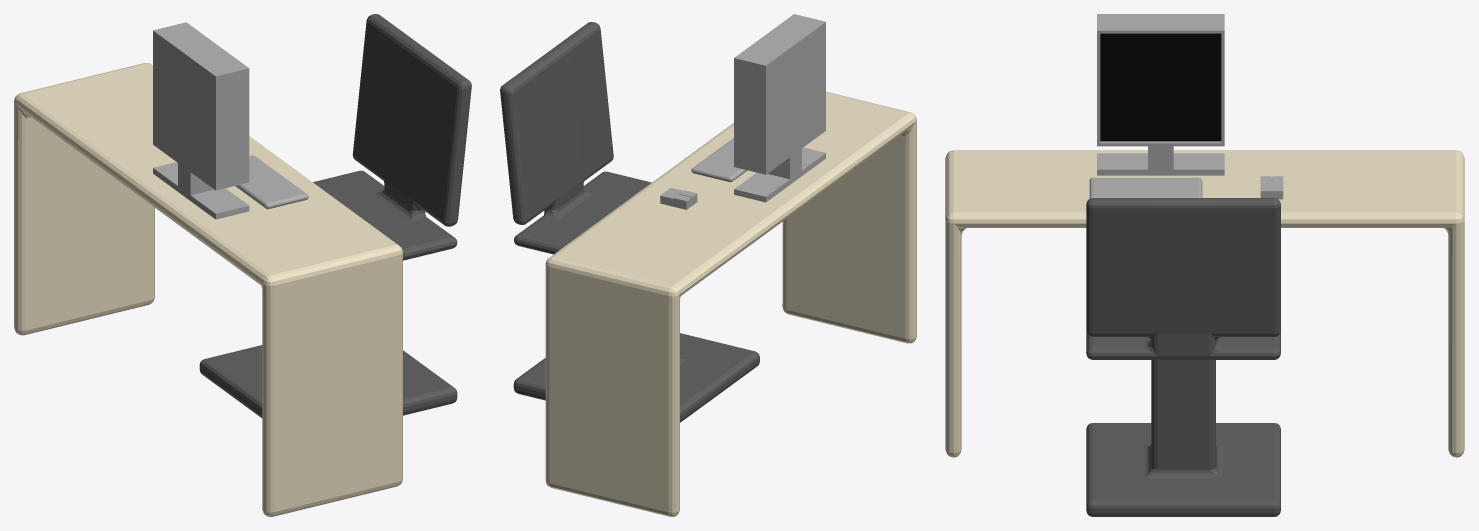
File: Arbeit_Arbeitsplatz.fbx
3 views of the same model, side by side, from view 1: azimuth 30°, elevation 25°; view 2: azimuth 150°, elevation 25°; view 3: azimuth 270°, elevation 25° (orthographic). The views are drawn at different scales.
Visible parts, largest first — view 1: Tisch, Stuhl, Bildschirm, Tastatur; view 2: Tisch, Stuhl, Bildschirm, Tastatur, Maus; view 3: Stuhl, Tisch, Bildschirm, Tastatur.
Boxes of the visible parts, x1,y1,x2,y2 form: Tisch: (14,63,402,516); Stuhl: (199,14,471,417); Bildschirm: (153,22,249,219); Tastatur: (235,155,308,209); Tisch: (545,91,916,516); Stuhl: (500,22,759,422); Bildschirm: (734,14,825,202); Tastatur: (691,138,747,182); Maus: (660,188,697,209); Stuhl: (1086,198,1280,516); Tisch: (945,150,1464,457); Bildschirm: (1097,14,1224,175); Tastatur: (1089,177,1202,198).
Bounding box in the file's own units: 99.64 × 132 × 160.
